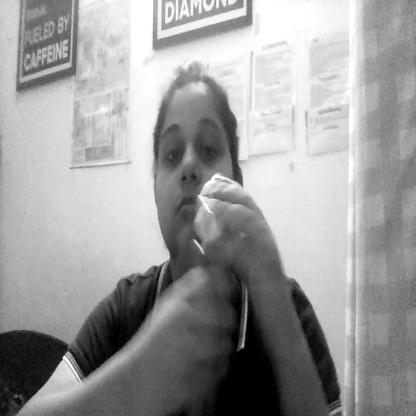Normal: (150, 70, 240, 272)
